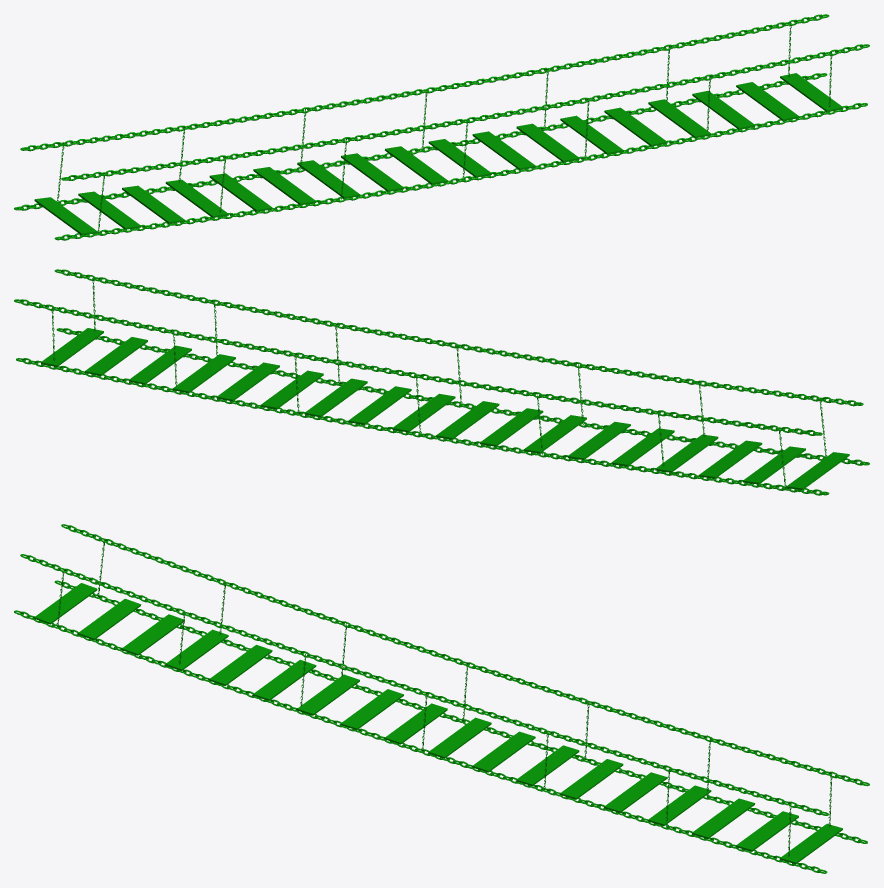
File: render.obj
3 renders of one model, top to bottom at view 1: azimuth 30°, elevation 25°; view 2: azimuth 150°, elevation 25°; view 3: azimuth 330°, elevation 25°, orthographic.
Size of the model in its own units: 20067 by 2956 by 2000.
